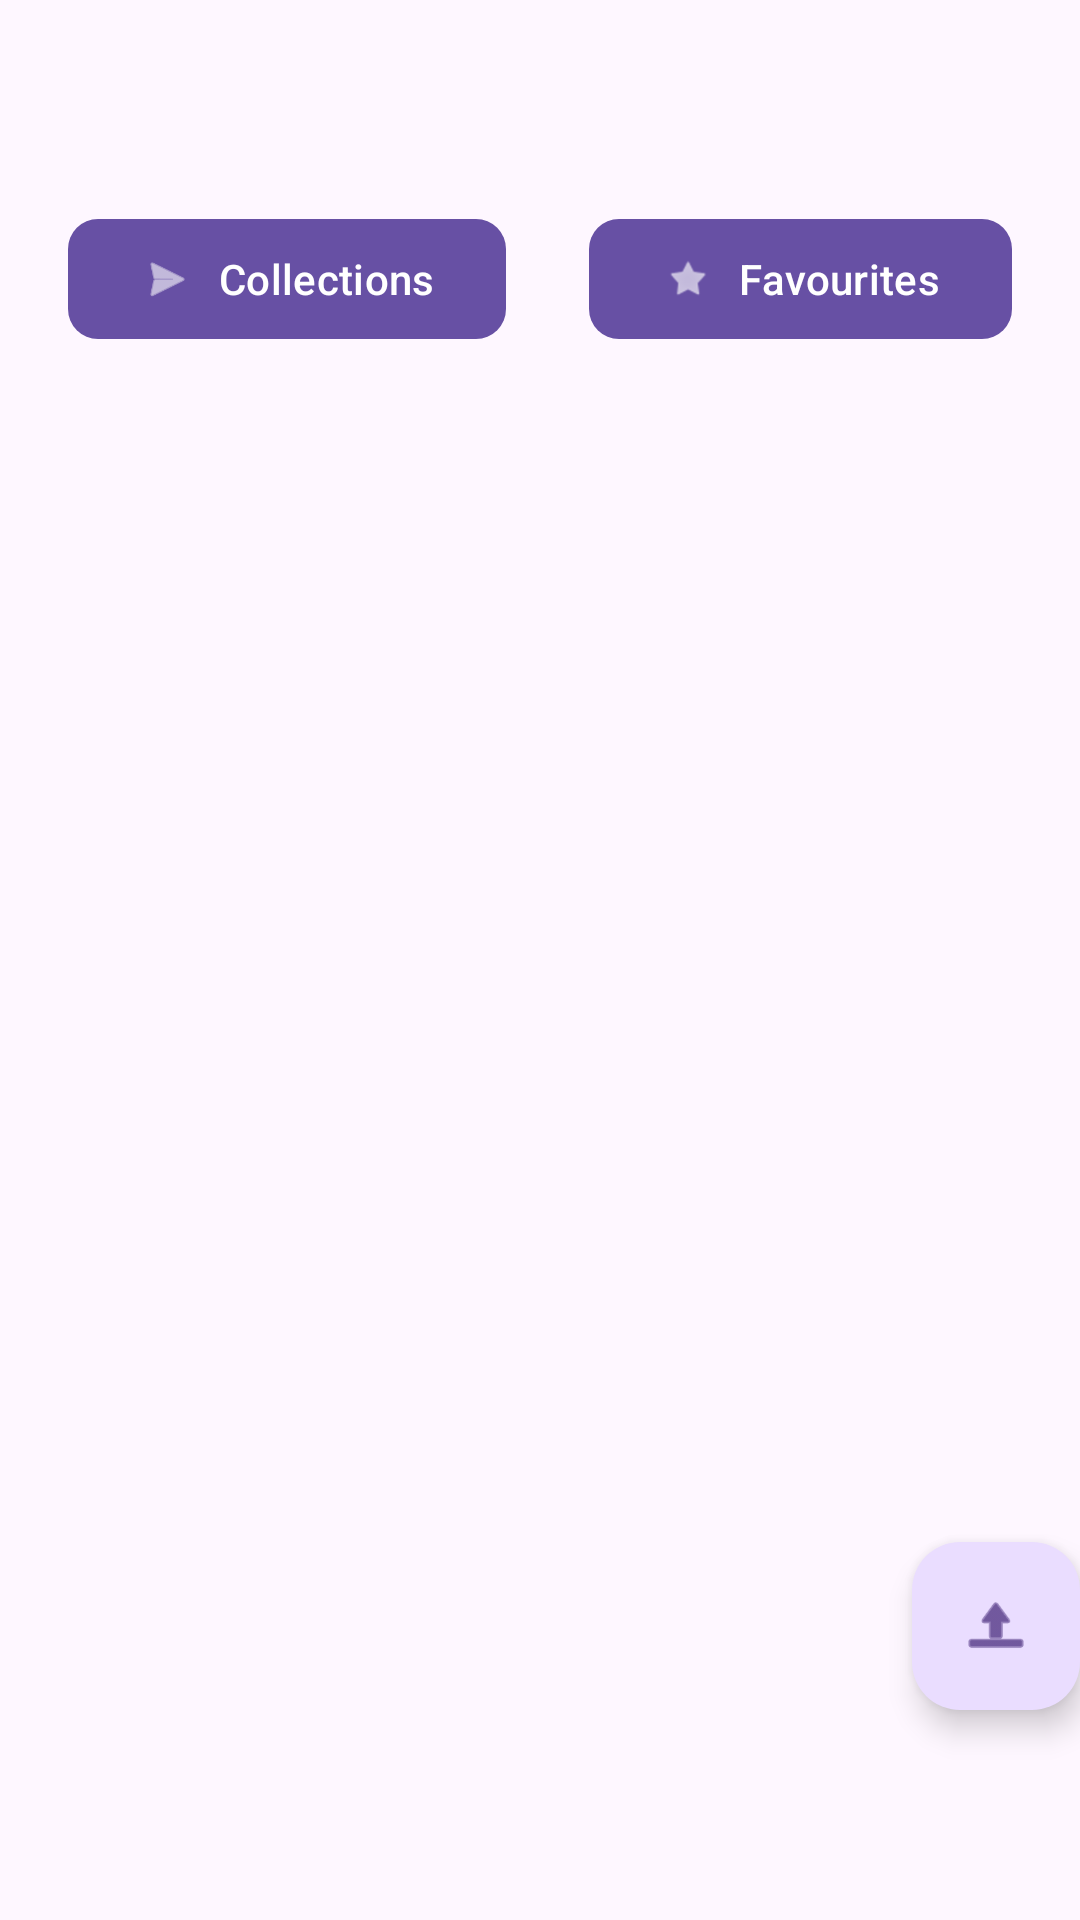

Icons on this 1080×1920 Android screen, each with the point to tap as (x,y):
Move Up: (996,1626)
